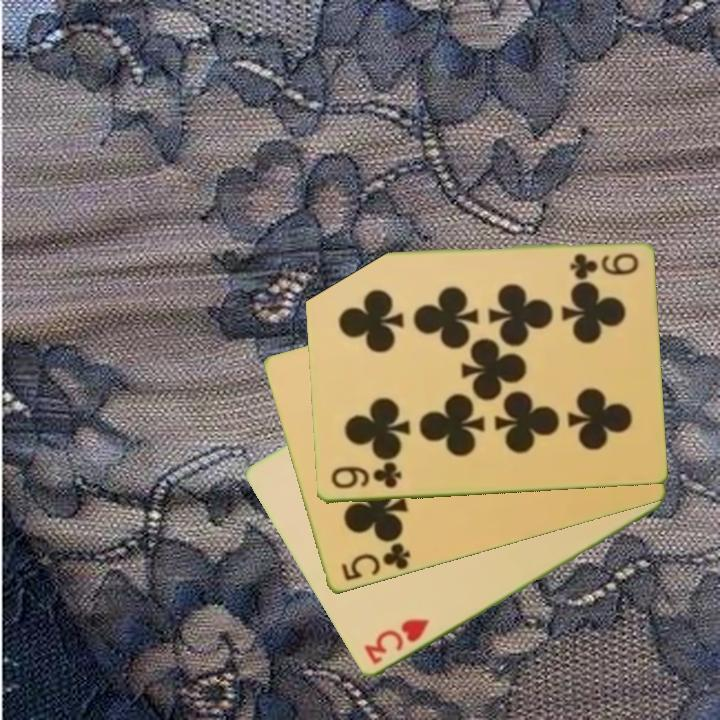3h: (360, 615, 433, 668)
5c: (337, 539, 413, 584)
9c: (327, 462, 404, 492), (566, 250, 641, 279)
